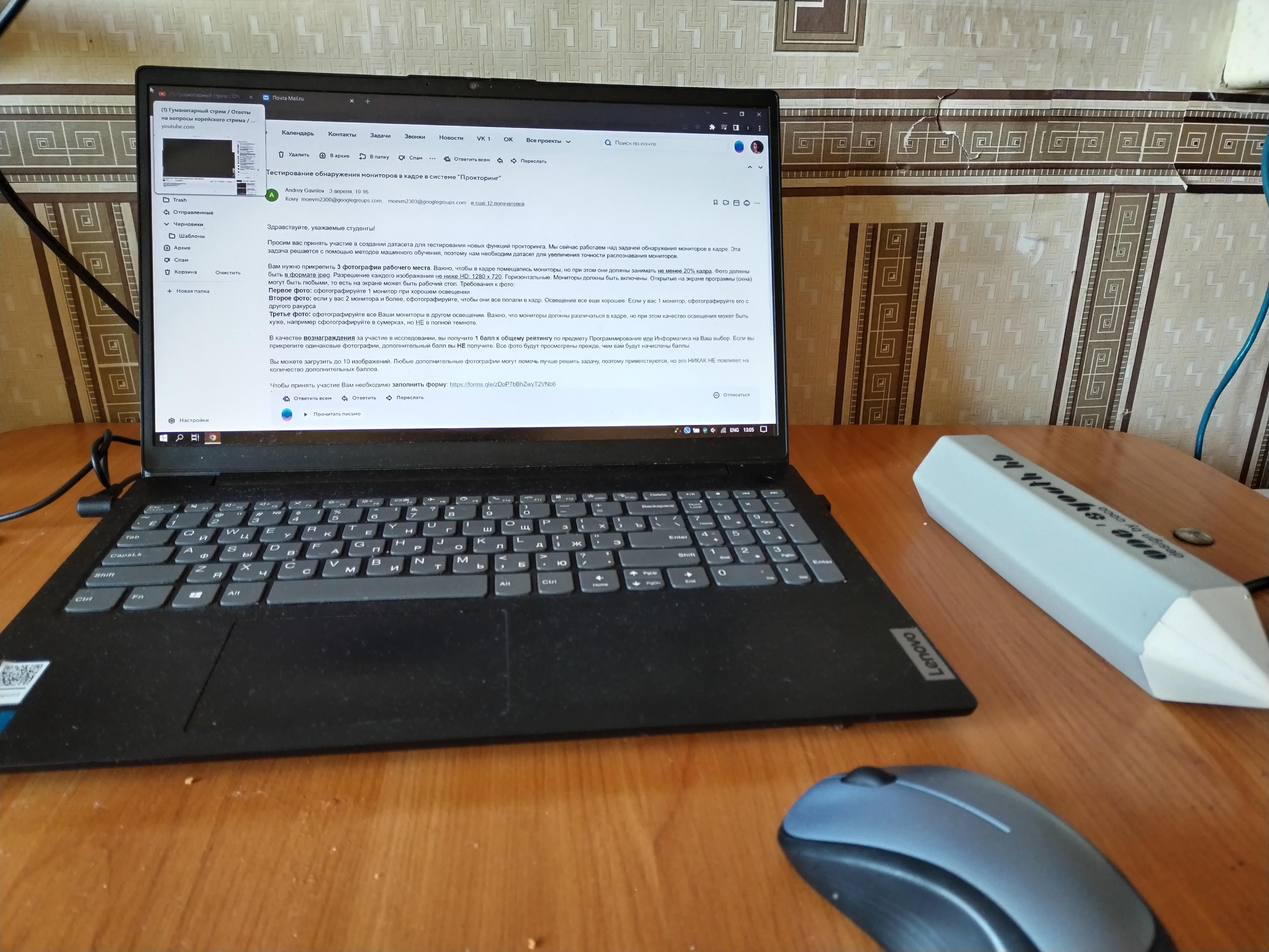monitor: (129, 59, 800, 490)
